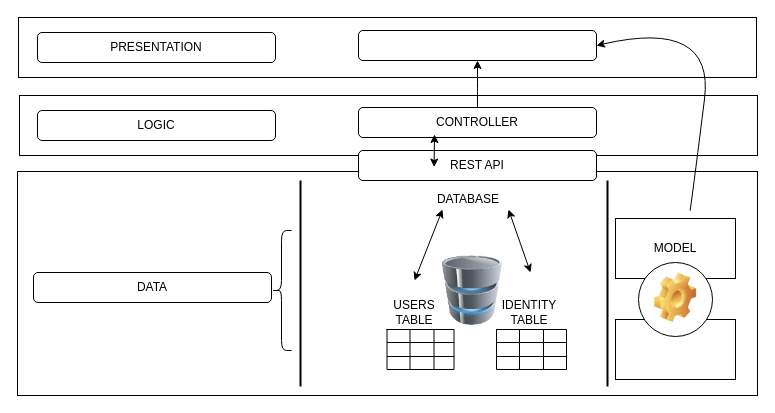
The diagram is 775 pixels wide and 413 high, and some of its shapes have lost their labels. Here are the shapes that lost their labels. From the top down, the box of each, then its label:
(358, 30, 596, 60): VIEW
(614, 318, 736, 380): VIEW-MODEL
